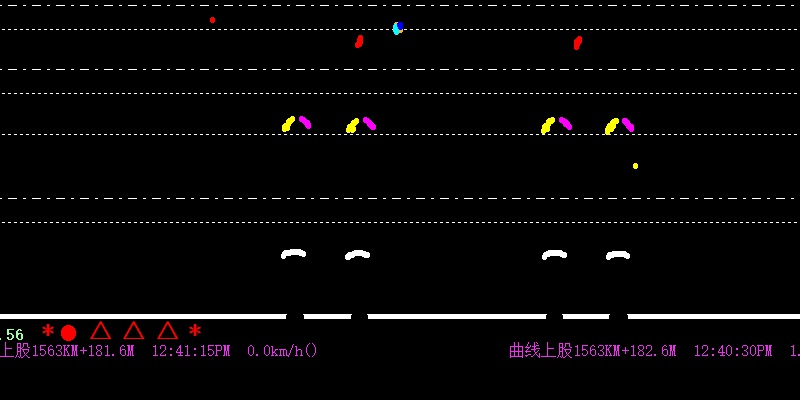L: (266, 105, 644, 276)
circle: (60, 324, 77, 343)
face_2: (392, 16, 407, 40)
face_down: (573, 25, 582, 53), (354, 26, 363, 53)
face_up: (206, 14, 217, 32)
star: (42, 321, 56, 340), (187, 322, 202, 336)
